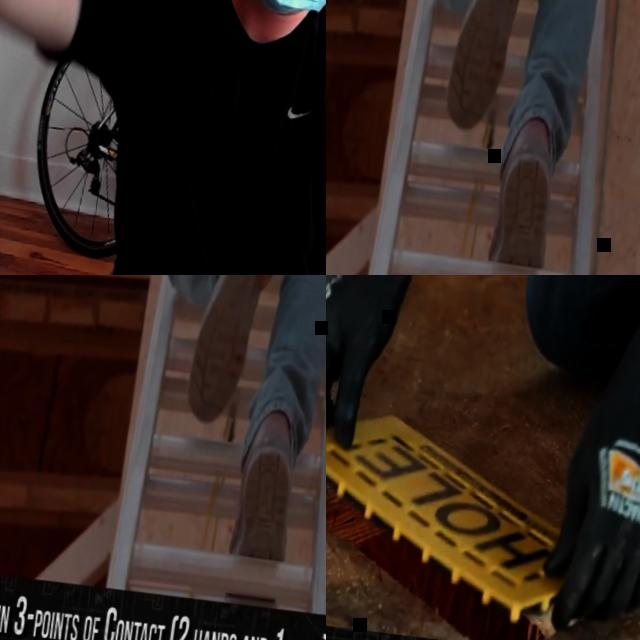NO-Safety Vest: (113, 0, 326, 275)
Person: (326, 275, 640, 640), (377, 0, 640, 275), (67, 0, 326, 275), (118, 275, 326, 612)
